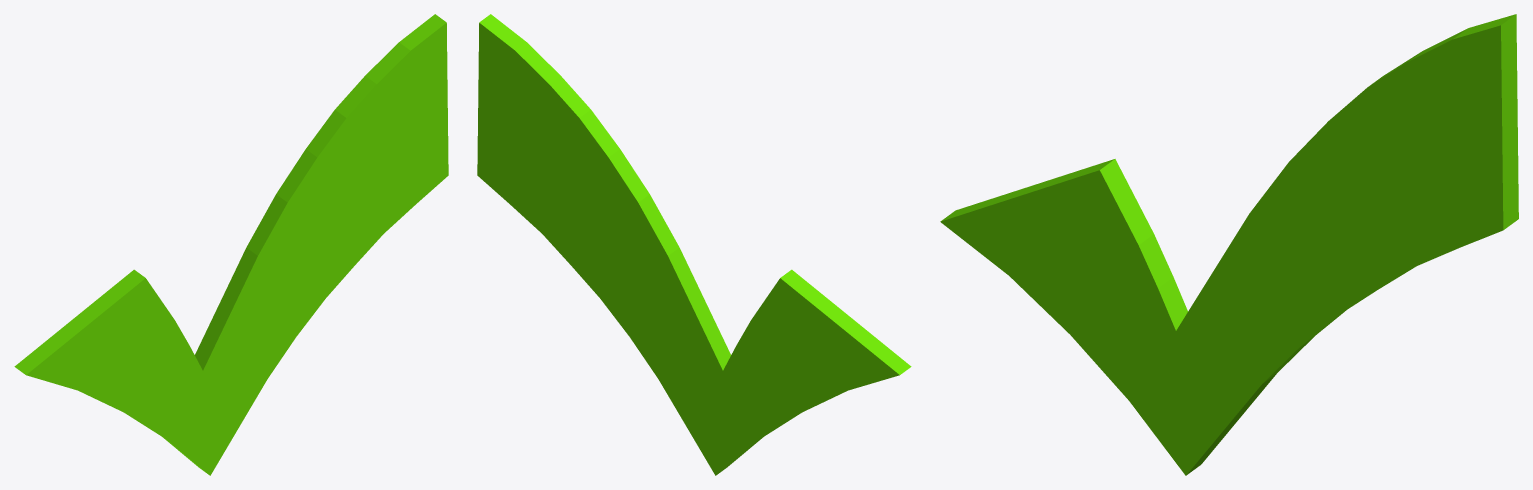
File: check_mark.fbx
The picture shows the model from 3 angles, left to right: view 1: azimuth 30°, elevation 25°; view 2: azimuth 150°, elevation 25°; view 3: azimuth 330°, elevation 25°; orthographic projection. The views are drawn at different scales.
Parts seen in each view (by area): view 1: check_mark_2; view 2: check_mark_2; view 3: check_mark_2.
Part boxes in pixels (x1,y1,x2,y2): check_mark_2: (14, 14, 448, 475); check_mark_2: (477, 14, 911, 475); check_mark_2: (940, 14, 1518, 475).
Bounding box in the file's own units: 4.26 × 3.81 × 0.2034.
